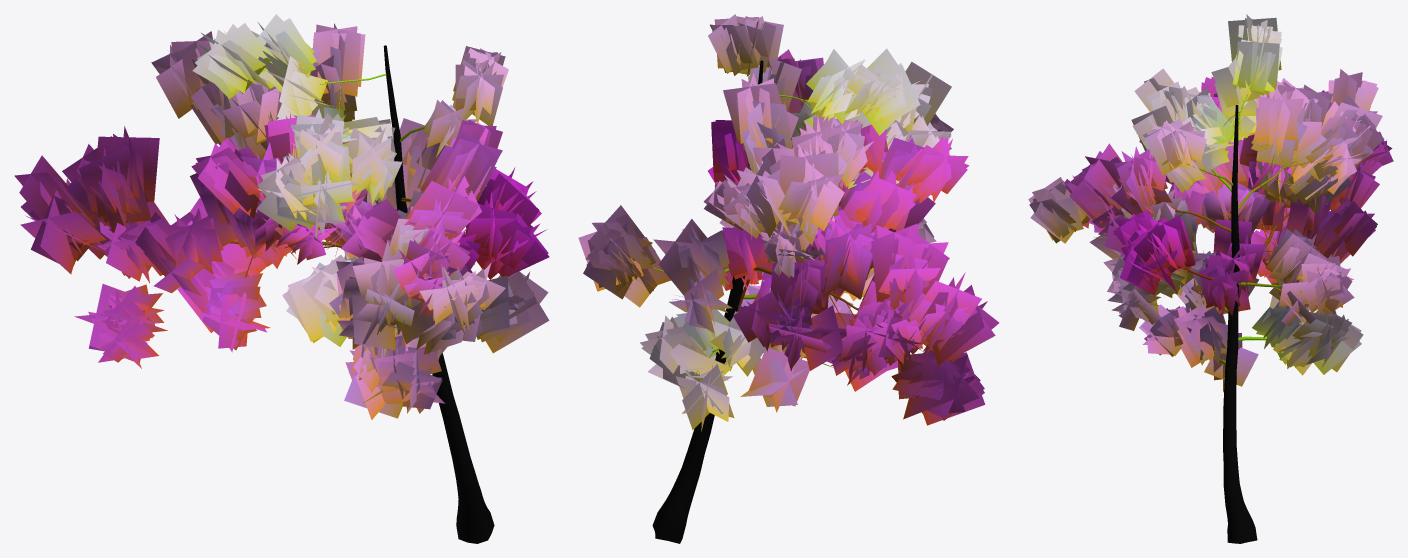
File: tree_pine_b.glb
The picture shows the model from 3 angles, left to right: view 1: azimuth 30°, elevation 25°; view 2: azimuth 150°, elevation 25°; view 3: azimuth 270°, elevation 25°; orthographic projection. The views are drawn at different scales.
Parts seen in each view (by area): view 1: tree_pine_b; view 2: tree_pine_b; view 3: tree_pine_b.
Boxes of the visible parts, left/top/right/bottom form: tree_pine_b: left=14, top=14, right=549, bottom=543; tree_pine_b: left=578, top=14, right=999, bottom=543; tree_pine_b: left=1028, top=14, right=1393, bottom=543.
Size of the model in its own units: 9.79 by 12.31 by 9.22.
